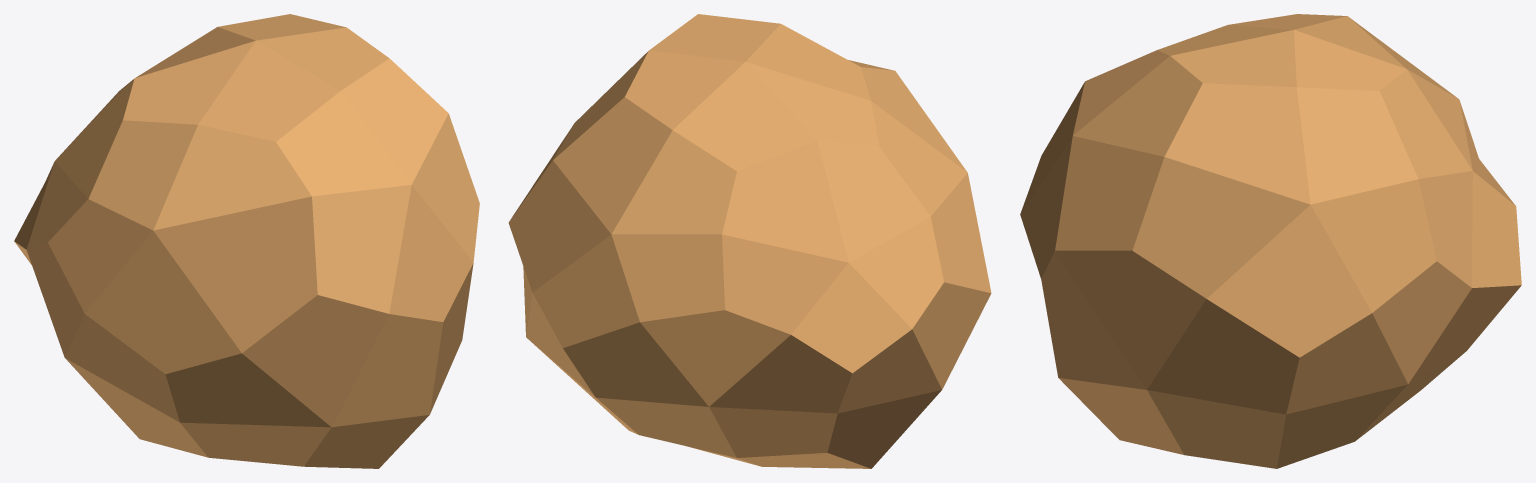
Rendered from potato.glb.
3 renders of one model, left to right at view 1: azimuth 30°, elevation 25°; view 2: azimuth 150°, elevation 25°; view 3: azimuth 270°, elevation 25°, orthographic. The views are drawn at different scales.
Visible parts, largest first — view 1: Icosphere; view 2: Icosphere; view 3: Icosphere.
Part boxes in pixels (x1,y1,x2,y2): Icosphere: [14, 14, 479, 468]; Icosphere: [508, 14, 991, 468]; Icosphere: [1020, 14, 1521, 468].
Size of the model in its own units: 1.57 by 1.47 by 1.61.
